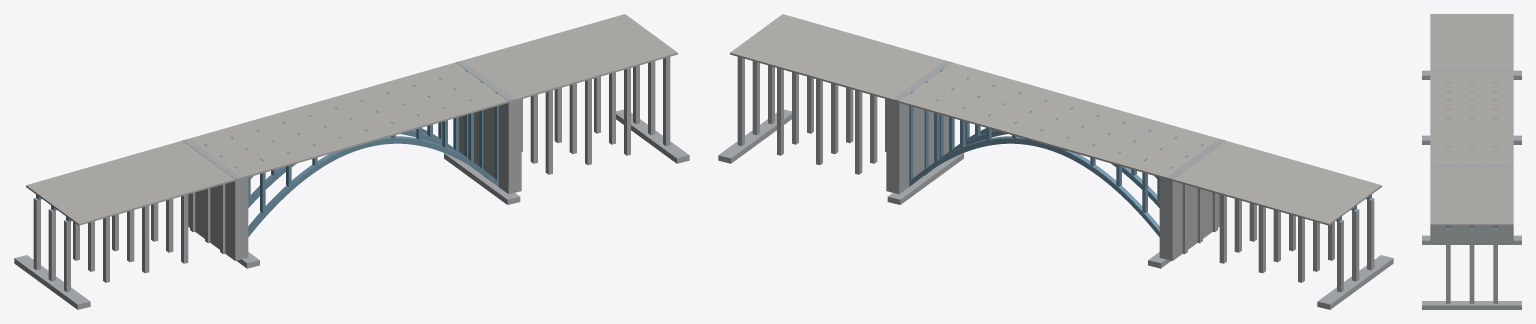
File: bridge.glb
3 views of the same model, side by side, from view 1: azimuth 30°, elevation 25°; view 2: azimuth 150°, elevation 25°; view 3: azimuth 270°, elevation 25° (orthographic). The views are drawn at different scales.
Visible parts, largest first — view 1: arch_pier_002, arch_pier_001, arch_rib_001, graded_deck_001, graded_deck_006, graded_deck_020, graded_deck_002, graded_deck_018, graded_deck_019, graded_deck_022, graded_deck_004, graded_deck_005 (+31 smaller); view 2: arch_pier_002, arch_pier_001, arch_rib_003, graded_deck_001, graded_deck_006, graded_deck_020, graded_deck_002, graded_deck_018, graded_deck_019, graded_deck_022, graded_deck_004, graded_deck_005 (+31 smaller); view 3: arch_pier_002, graded_deck_023, bearing_block_004, graded_deck_002, graded_deck_003, graded_deck_004, graded_deck_005, graded_deck_006, graded_deck_008, graded_deck_009, graded_deck_010, graded_deck_011 (+20 smaller).
Boxes of the visible parts, left/top/right/bottom form: arch_pier_002: left=456, top=60, right=521, bottom=194; arch_pier_001: left=182, top=138, right=248, bottom=260; arch_rib_001: left=248, top=136, right=498, bottom=236; graded_deck_001: left=26, top=178, right=104, bottom=225; graded_deck_006: left=156, top=140, right=235, bottom=188; graded_deck_020: left=521, top=36, right=599, bottom=83; graded_deck_002: left=52, top=170, right=130, bottom=217; graded_deck_018: left=469, top=51, right=547, bottom=98; graded_deck_019: left=495, top=44, right=573, bottom=91; graded_deck_022: left=573, top=21, right=651, bottom=69; graded_deck_004: left=104, top=155, right=182, bottom=203; graded_deck_005: left=130, top=148, right=208, bottom=195; arch_pier_002: left=886, top=60, right=951, bottom=194; arch_pier_001: left=1159, top=138, right=1225, bottom=260; arch_rib_003: left=909, top=136, right=1159, bottom=236; graded_deck_001: left=1303, top=178, right=1381, bottom=225; graded_deck_006: left=1172, top=140, right=1251, bottom=188; graded_deck_020: left=808, top=36, right=886, bottom=83; graded_deck_002: left=1277, top=170, right=1355, bottom=217; graded_deck_018: left=860, top=51, right=938, bottom=98; graded_deck_019: left=834, top=44, right=912, bottom=91; graded_deck_022: left=756, top=21, right=834, bottom=69; graded_deck_004: left=1225, top=155, right=1303, bottom=203; graded_deck_005: left=1199, top=148, right=1277, bottom=195; arch_pier_002: left=1430, top=164, right=1513, bottom=243; graded_deck_023: left=1430, top=215, right=1513, bottom=225; bearing_block_004: left=1422, top=301, right=1521, bottom=309; graded_deck_002: left=1430, top=23, right=1513, bottom=32; graded_deck_003: left=1430, top=32, right=1513, bottom=41; graded_deck_004: left=1430, top=41, right=1513, bottom=50; graded_deck_005: left=1430, top=50, right=1513, bottom=59; graded_deck_006: left=1430, top=59, right=1513, bottom=68; graded_deck_008: left=1430, top=78, right=1513, bottom=87; graded_deck_009: left=1430, top=87, right=1513, bottom=96; graded_deck_010: left=1430, top=96, right=1513, bottom=105; graded_deck_011: left=1430, top=105, right=1513, bottom=114.
Bounding box in the file's own units: 71.6 × 11.81 × 12.86.
